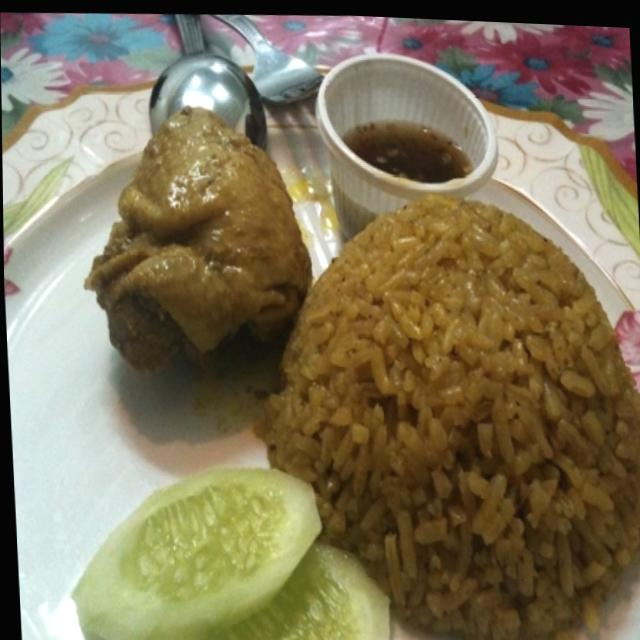米饭主食: (6, 0, 640, 640)
